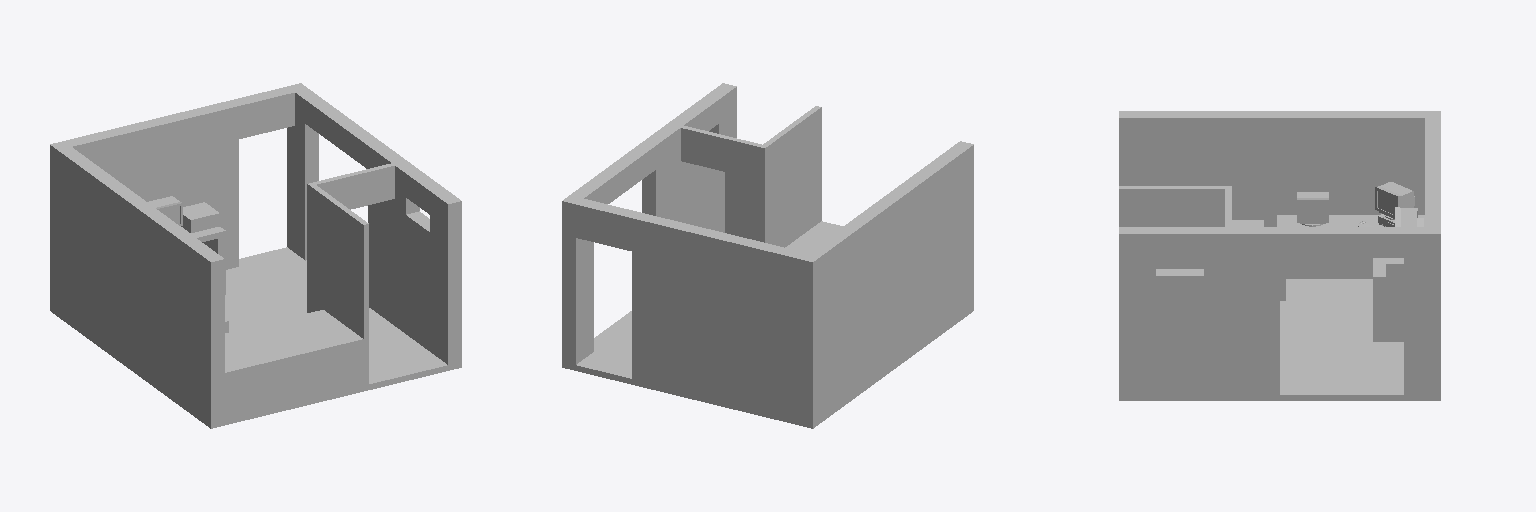
File: Resources_Env_RoomTest_01.obj
3 renders of one model, left to right at view 1: azimuth 30°, elevation 25°; view 2: azimuth 150°, elevation 25°; view 3: azimuth 270°, elevation 25°, orthographic.
Parts seen in each view (by area): view 1: Mesh111 Wall_Back1 Model, Mesh110 Group99 Wall_LivingRoom1 Model, Mesh108 Group98 Toilet1 Model, Mesh112 Bed1 Model, Mesh109 Wall_Balcony1 Model, Mesh106 Group96 Toilet1 Model, Mesh123 Ground1 Model, Mesh105 Group95 Toilet1 Model, Mesh107 Group97 Toilet1 Model, Mesh2 MacintoshQuadra900_1 Model; view 2: Mesh110 Group99 Wall_LivingRoom1 Model, Mesh111 Wall_Back1 Model, Mesh109 Wall_Balcony1 Model, Mesh106 Group96 Toilet1 Model, Mesh107 Group97 Toilet1 Model, Mesh108 Group98 Toilet1 Model, Mesh123 Ground1 Model, Mesh112 Bed1 Model; view 3: Mesh111 Wall_Back1 Model, Mesh109 Wall_Balcony1 Model, Mesh108 Group98 Toilet1 Model, Mesh123 Ground1 Model, Mesh106 Group96 Toilet1 Model, Mesh114 Group100 Desk1 Model, Mesh110 Group99 Wall_LivingRoom1 Model, Mesh116 Group102 Desk1 Model, Mesh4 SGI_GDM_5411_21__Monitor1 Model, Mesh105 Group95 Toilet1 Model, Mesh103 SGI_GDM_5411_21__Monitor4 Model.
Part boxes in pixels (x1,y1,x2,y2): Mesh111 Wall_Back1 Model: (50, 141, 224, 422); Mesh110 Group99 Wall_LivingRoom1 Model: (64, 87, 294, 269); Mesh108 Group98 Toilet1 Model: (395, 162, 461, 364); Mesh112 Bed1 Model: (225, 310, 363, 419); Mesh109 Wall_Balcony1 Model: (287, 83, 407, 325); Mesh106 Group96 Toilet1 Model: (307, 183, 368, 385); Mesh123 Ground1 Model: (50, 247, 393, 428); Mesh105 Group95 Toilet1 Model: (369, 326, 461, 389); Mesh107 Group97 Toilet1 Model: (313, 163, 394, 209); Mesh2 MacintoshQuadra900_1 Model: (181, 202, 219, 232); Mesh110 Group99 Wall_LivingRoom1 Model: (576, 199, 806, 419); Mesh111 Wall_Back1 Model: (799, 141, 973, 422); Mesh109 Wall_Balcony1 Model: (562, 122, 683, 364); Mesh106 Group96 Toilet1 Model: (760, 106, 821, 247); Mesh107 Group97 Toilet1 Model: (681, 126, 761, 240); Mesh108 Group98 Toilet1 Model: (670, 83, 736, 232); Mesh123 Ground1 Model: (562, 306, 973, 428); Mesh112 Bed1 Model: (785, 221, 842, 252); Mesh111 Wall_Back1 Model: (1119, 111, 1440, 278); Mesh109 Wall_Balcony1 Model: (1225, 227, 1440, 394); Mesh108 Group98 Toilet1 Model: (1119, 227, 1224, 394); Mesh123 Ground1 Model: (1225, 279, 1440, 400); Mesh106 Group96 Toilet1 Model: (1119, 186, 1231, 268); Mesh114 Group100 Desk1 Model: (1373, 283, 1403, 341); Mesh110 Group99 Wall_LivingRoom1 Model: (1425, 118, 1440, 226); Mesh116 Group102 Desk1 Model: (1277, 215, 1424, 282); Mesh4 SGI_GDM_5411_21__Monitor1 Model: (1297, 198, 1328, 222); Mesh105 Group95 Toilet1 Model: (1119, 395, 1224, 400); Mesh103 SGI_GDM_5411_21__Monitor4 Model: (1375, 186, 1401, 217).
Size of the model in its own units: 4.5 by 2.85 by 5.